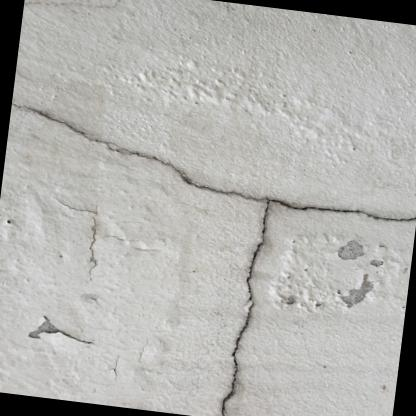crack: (11, 96, 416, 416)
